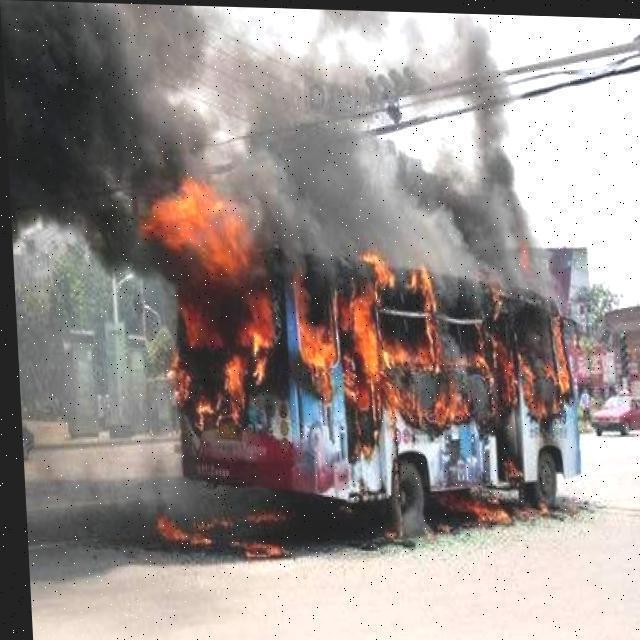Fire: (135, 176, 580, 574)
